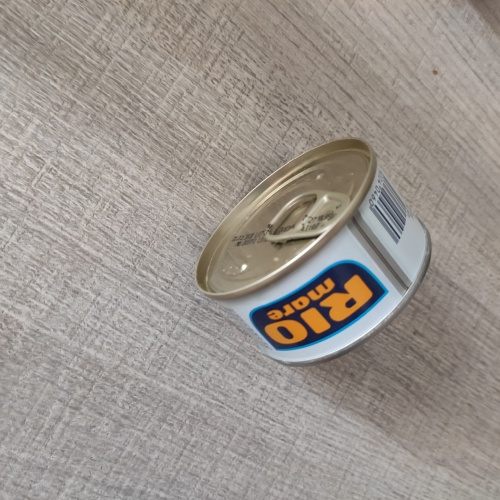tonno: (190, 131, 436, 369)
